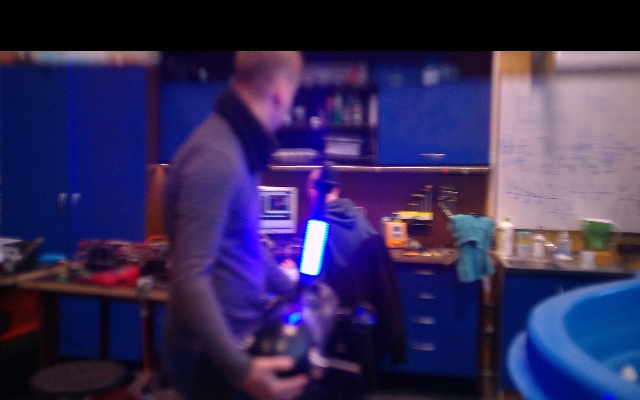blue: (300, 218, 329, 277)
